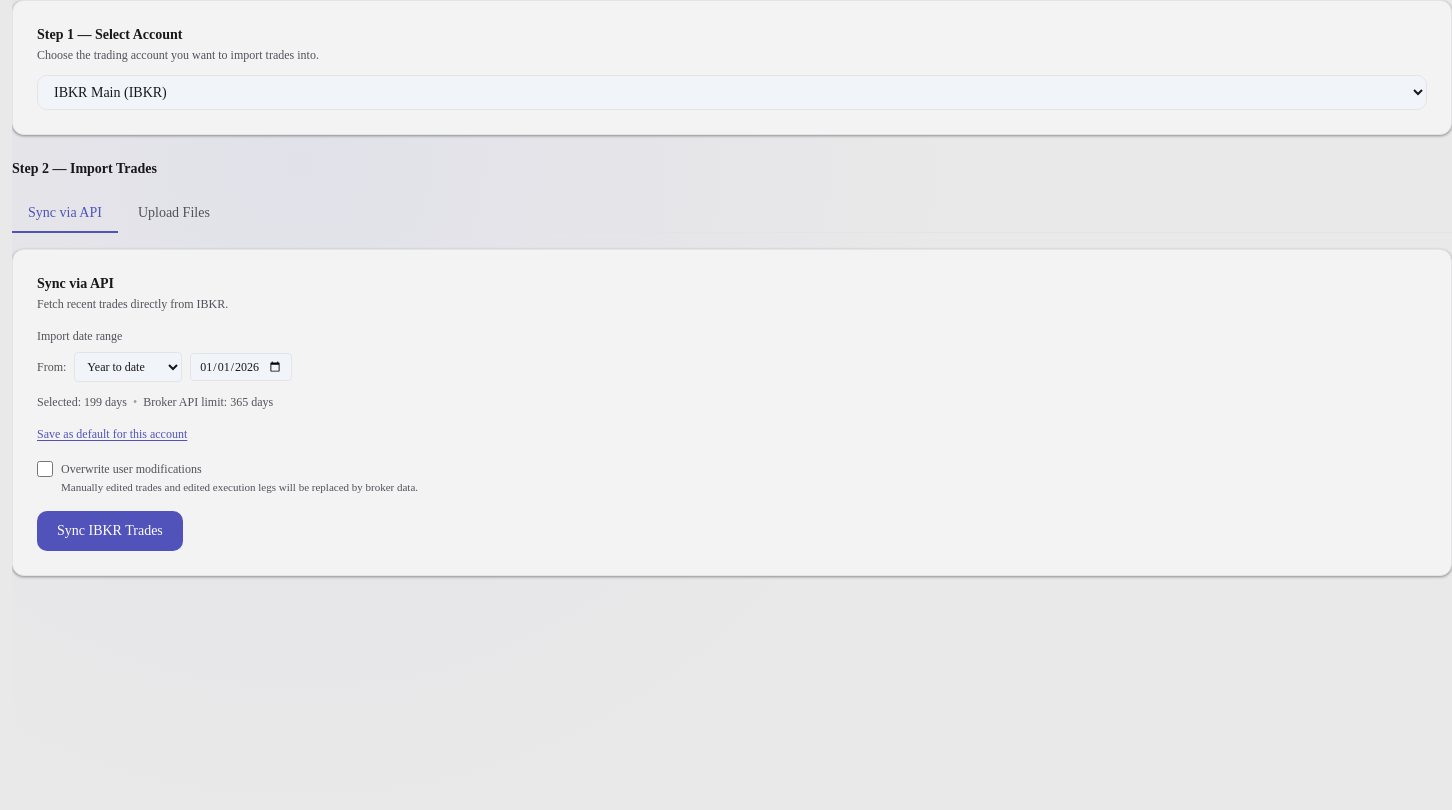
Scenario: ImportForm sync parameter mapping › sends from_date for IBKR sync
This screenshot has width=1452, height=810.
Expected: the dropdown showing "IBKR Main (IBKR)" below "Step 1 — Select Account" shows "IBKR Main (IBKR)", top-left (37, 75), bottom-right (1427, 110)
Click the button "Sync IBKR Trades". click: (110, 531)
box: top-left (37, 511), bottom-right (183, 551)
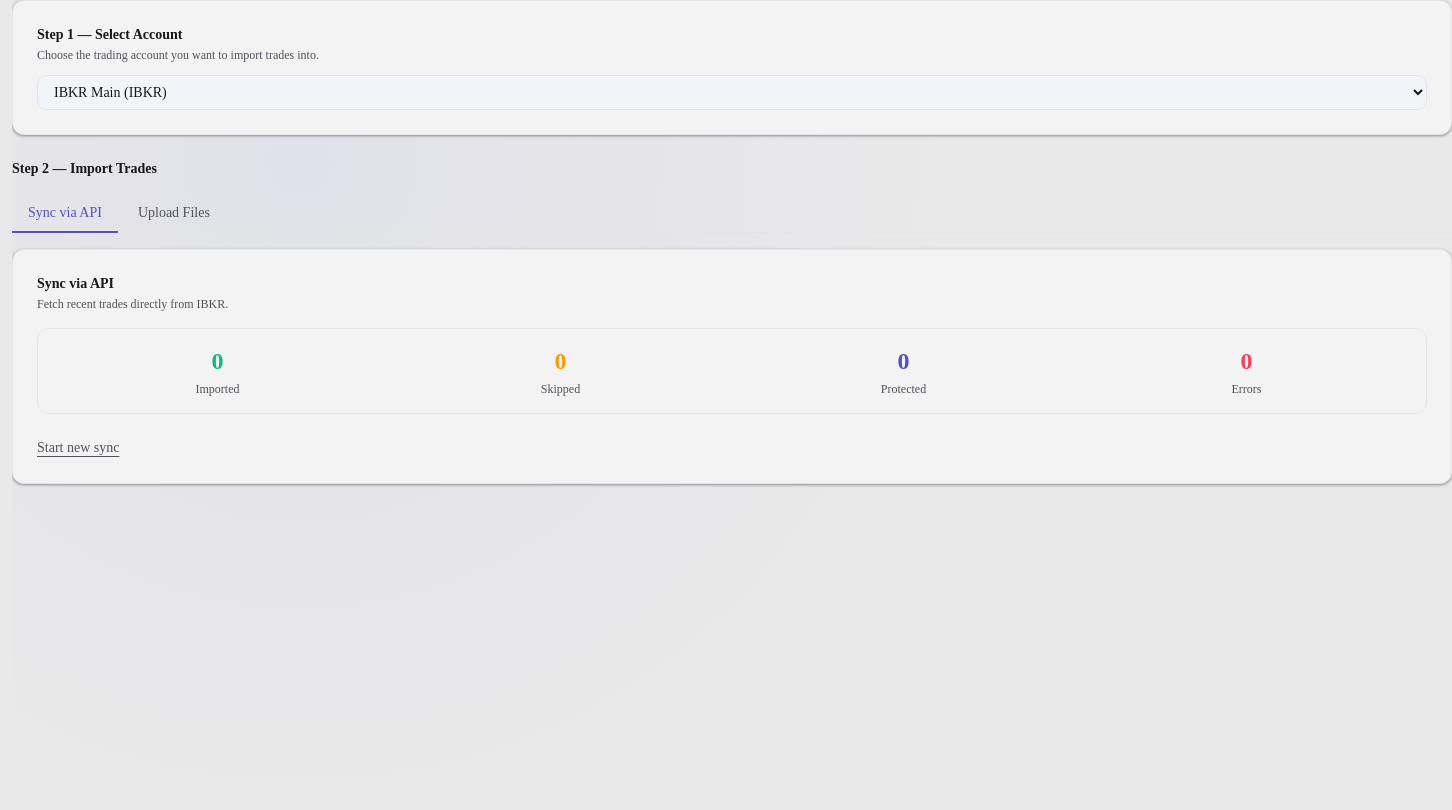
Result: the button "Start new sync" is shown at top-left (37, 438), bottom-right (119, 458)
